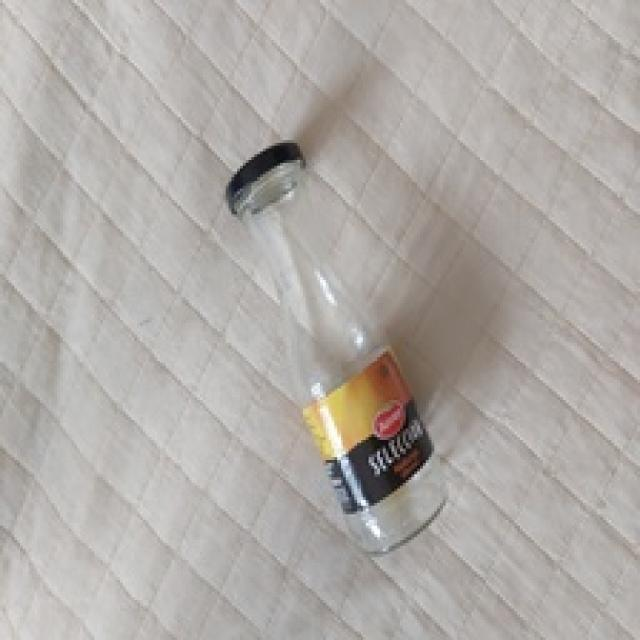glass-bottle: (192, 109, 499, 582)
